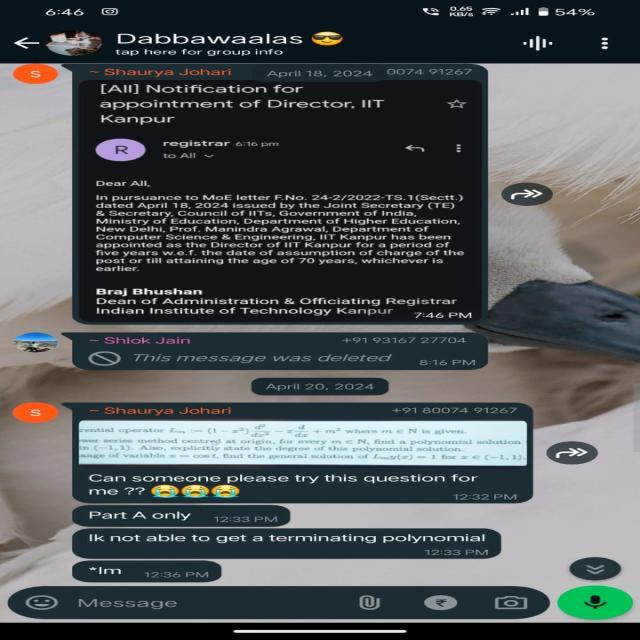scam: (84, 470, 499, 500), (80, 532, 498, 556), (80, 506, 207, 526), (76, 562, 134, 582)
